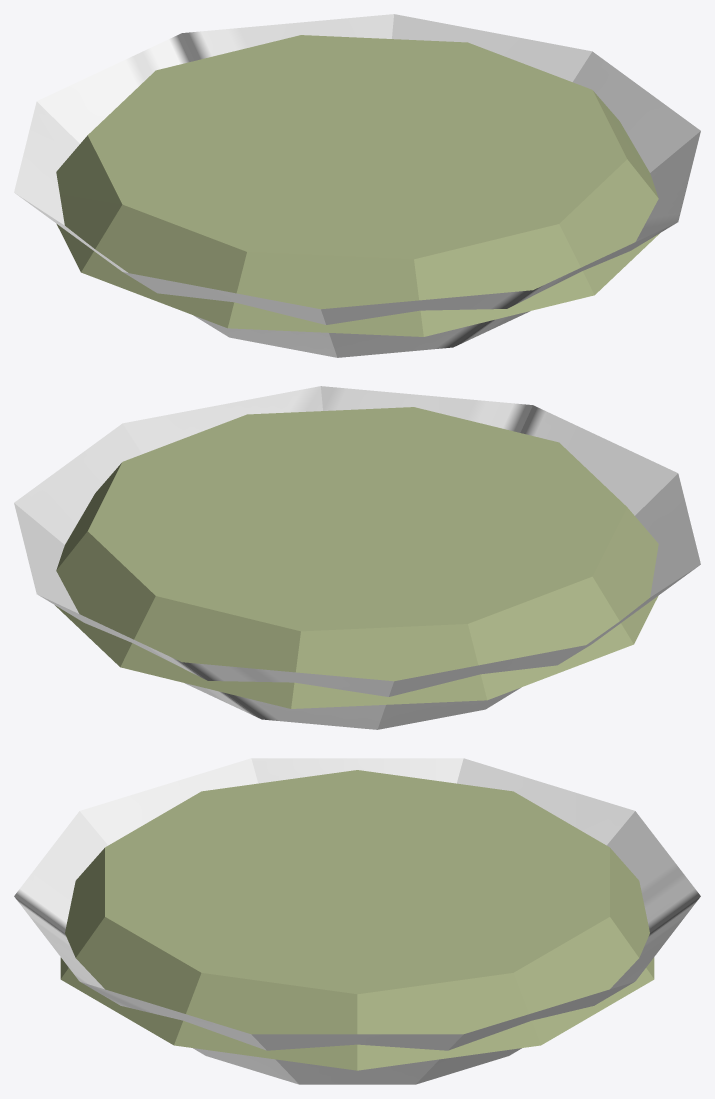
Rendered from meal_paste.obj.
3 views of the same model, one above another, from view 1: azimuth 30°, elevation 25°; view 2: azimuth 150°, elevation 25°; view 3: azimuth 270°, elevation 25° (orthographic). The views are drawn at different scales.
Visible parts, largest first — view 1: meal_paste; view 2: meal_paste; view 3: meal_paste.
Part boxes in pixels (<box>): meal_paste: <box>14,14,700,357</box>; meal_paste: <box>14,386,700,729</box>; meal_paste: <box>14,758,700,1084</box>.
Size of the model in its own units: 0.4184 by 0.09 by 0.44.
